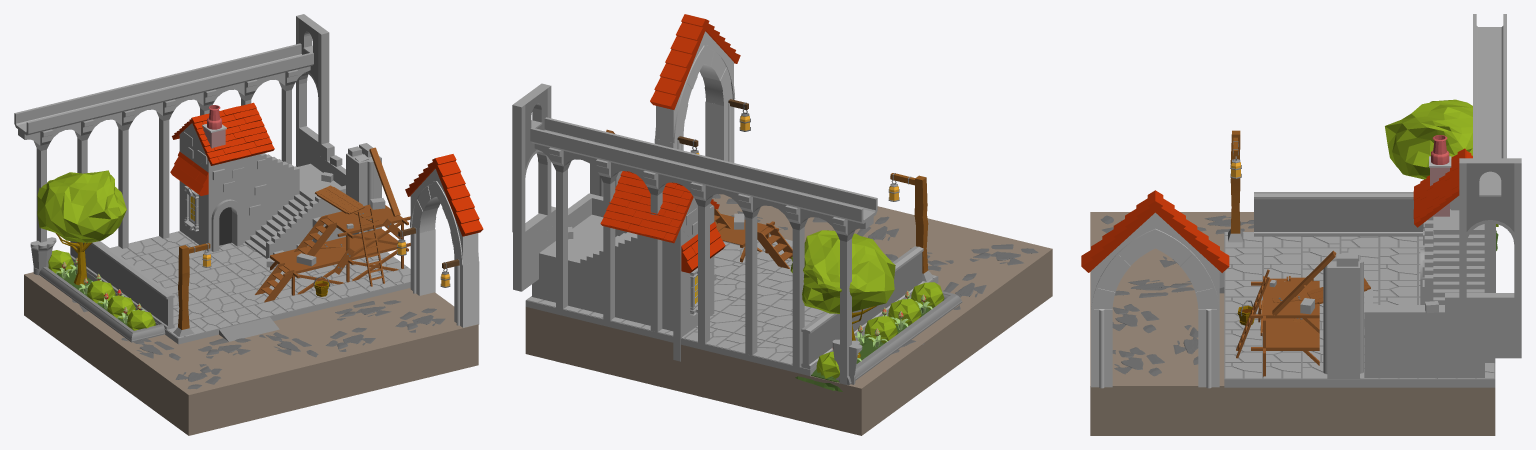
Rendered from Town.fbx.
3 views of the same model, side by side, from view 1: azimuth 30°, elevation 25°; view 2: azimuth 150°, elevation 25°; view 3: azimuth 270°, elevation 25° (orthographic). The views are drawn at different scales.
Visible parts, largest first — view 1: Cube, Prop_Stairs_Multi_Castle_Dungeon_Stone_10, Vegetation_Modular_Tree_Foliage_Clump_Large_05, Prop_Fence_Stone_Straight_02 (2), Building_Facade_Modular_Archway_Roof_02, Prop_Archway_Stone_Castle_Dungeon_01, Prop_Aqueduct_Castle_Dungeon_01 (2), Prop_Aqueduct_Castle_Dungeon_01 (3), Prop_Aqueduct_Castle_Dungeon_01, Prop_Aqueduct_Castle_Dungeon_01 (6), Prop_Aqueduct_Castle_Dungeon_01 (1), Building_Facade_Modular_Roof_07 (+43 smaller); view 2: Cube, Prop_Stairs_Multi_Castle_Dungeon_Stone_10, Vegetation_Modular_Tree_Foliage_Clump_Large_05, Building_Facade_Modular_Archway_Roof_02 (1), Prop_Archway_Stone_Castle_Dungeon_01, Prop_Aqueduct_Castle_Dungeon_01, Prop_Aqueduct_Castle_Dungeon_01 (3), Prop_Aqueduct_Castle_Dungeon_01 (1), Prop_Aqueduct_Castle_Dungeon_01 (2), Prop_Aqueduct_Castle_Dungeon_01 (6), Prop_Aqueduct_Castle_Dungeon_01 (4), Prop_Aqueduct_Castle_Dungeon_01 (5) (+21 smaller); view 3: Cube, Prop_Stairs_Multi_Castle_Dungeon_Stone_10, Prop_Fence_Stone_Straight_02 (2), Prop_Archway_Stone_Castle_Dungeon_01, Prop_Brick_Stone_Dungeon_02, Prop_Archway_Column_Castle_Dungeon_Stone_01, Vegetation_Modular_Tree_Foliage_Clump_Large_05, Building_Facade_Modular_Archway_Roof_02, Building_Facade_Modular_Archway_Roof_02 (1), Building_Modular_Jetty_Walkway_Timber_Platform_Half_01, Prop_Archway_Column_Castle_Dungeon_Stone_01 (1), Prop_Archway_Column_Castle_Dungeon_Stone_01 (2) (+41 smaller).
Part boxes in pixels (x1,y1,x2,y2): Cube: (24,272,478,435); Prop_Stairs_Multi_Castle_Dungeon_Stone_10: (184,147,345,258); Vegetation_Modular_Tree_Foliage_Clump_Large_05: (37,170,126,242); Prop_Fence_Stone_Straight_02 (2): (70,241,174,329); Building_Facade_Modular_Archway_Roof_02: (435,154,483,265); Prop_Archway_Stone_Castle_Dungeon_01: (296,14,329,144); Prop_Aqueduct_Castle_Dungeon_01 (2): (137,73,191,238); Prop_Aqueduct_Castle_Dungeon_01 (3): (96,83,150,248); Prop_Aqueduct_Castle_Dungeon_01: (14,103,68,248); Prop_Aqueduct_Castle_Dungeon_01 (6): (260,43,313,164); Prop_Aqueduct_Castle_Dungeon_01 (1): (55,93,109,173); Building_Facade_Modular_Roof_07: (223,102,274,158); Cube: (525,194,1052,435); Prop_Stairs_Multi_Castle_Dungeon_Stone_10: (532,193,714,333); Vegetation_Modular_Tree_Foliage_Clump_Large_05: (790,230,895,313); Building_Facade_Modular_Archway_Roof_02 (1): (650,14,705,143); Prop_Archway_Stone_Castle_Dungeon_01: (512,83,551,234); Prop_Aqueduct_Castle_Dungeon_01: (814,186,877,384); Prop_Aqueduct_Castle_Dungeon_01 (3): (719,163,782,355); Prop_Aqueduct_Castle_Dungeon_01 (1): (767,175,829,367); Prop_Aqueduct_Castle_Dungeon_01 (2): (672,152,735,397); Prop_Aqueduct_Castle_Dungeon_01 (6): (530,117,593,309); Prop_Aqueduct_Castle_Dungeon_01 (4): (625,140,687,332); Prop_Aqueduct_Castle_Dungeon_01 (5): (577,129,640,373); Cube: (1090,212,1495,435); Prop_Stairs_Multi_Castle_Dungeon_Stone_10: (1364,209,1484,377); Prop_Fence_Stone_Straight_02 (2): (1254,192,1423,236); Prop_Archway_Stone_Castle_Dungeon_01: (1459,158,1521,297); Prop_Brick_Stone_Dungeon_02: (1445,293,1521,358); Prop_Archway_Column_Castle_Dungeon_Stone_01: (1323,254,1363,378); Vegetation_Modular_Tree_Foliage_Clump_Large_05: (1385,99,1472,179); Building_Facade_Modular_Archway_Roof_02: (1081,190,1155,309); Building_Facade_Modular_Archway_Roof_02 (1): (1155,190,1229,309); Building_Modular_Jetty_Walkway_Timber_Platform_Half_01: (1251,318,1319,376); Prop_Archway_Column_Castle_Dungeon_Stone_01 (1): (1091,309,1112,388); Prop_Archway_Column_Castle_Dungeon_Stone_01 (2): (1198,309,1219,388).
Size of the model in its own units: 10.94 by 7.79 by 11.37.
